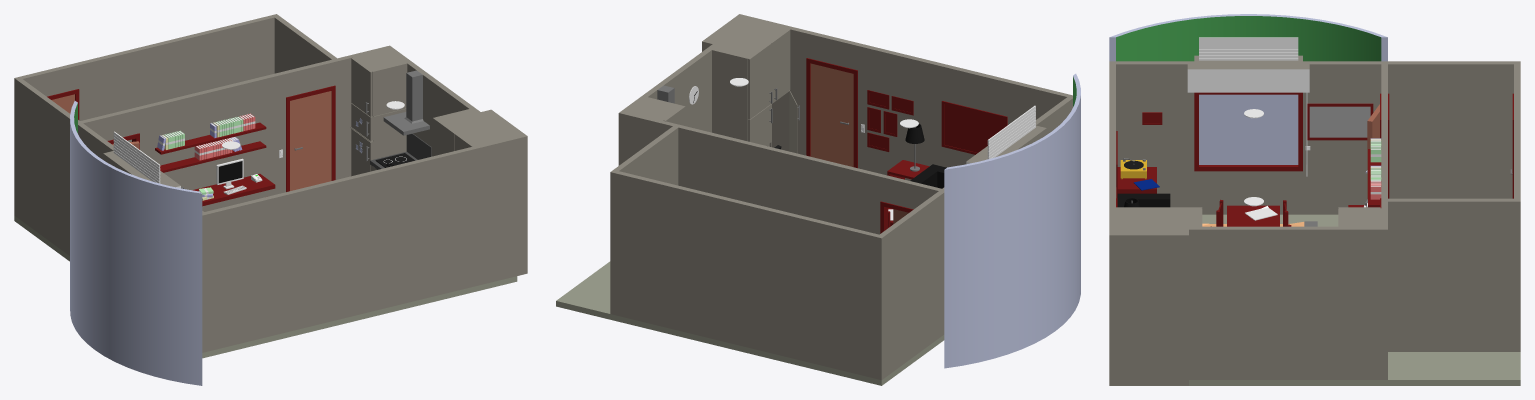
The model's file is test 3 color LOW.dae.
3 views of the same model, side by side, from view 1: azimuth 30°, elevation 25°; view 2: azimuth 150°, elevation 25°; view 3: azimuth 270°, elevation 25° (orthographic). The views are drawn at different scales.
Parts seen in each view (by area): view 1: _3DGeom_1536, _3DGeom_123, _3DGeom_1535, Body_1 (×2), Body_22, Body_5, Body_25, Body_15, Body_4, Body_16, _3DGeom_579; view 2: _3DGeom_1536, _3DGeom_123, Body_1 (×2), _3DGeom_1535, Body_62, Body_13, _3DGeom_1588, Body_55, Body_2, Body_72; view 3: _3DGeom_1536, Body_1 (×3), _3DGeom_124, Body_14, _3DGeom_1532, _3DGeom_2406, Body_99, _3DGeom_123, Body_26, Body_55, Body_24, _3DGeom_2407 (+1 smaller).
Boxes of the visible parts, x1,y1,x2,y2 form: _3DGeom_1536: [14, 14, 527, 352]; _3DGeom_123: [70, 101, 202, 385]; _3DGeom_1535: [51, 91, 331, 190]; Body_1 (×2): [14, 131, 517, 358]; Body_22: [383, 70, 429, 135]; Body_5: [286, 85, 335, 191]; Body_25: [192, 173, 275, 206]; Body_15: [160, 141, 266, 172]; Body_4: [155, 122, 266, 154]; Body_16: [406, 133, 431, 159]; _3DGeom_579: [218, 161, 242, 183]; _3DGeom_1536: [610, 14, 1072, 380]; _3DGeom_123: [944, 73, 1080, 368]; Body_1 (×2): [556, 105, 1035, 385]; _3DGeom_1535: [810, 63, 853, 166]; Body_62: [941, 101, 1007, 154]; Body_13: [806, 58, 857, 168]; _3DGeom_1588: [748, 104, 771, 145]; Body_55: [910, 164, 946, 188]; Body_2: [789, 90, 797, 153]; Body_72: [887, 160, 929, 179]; _3DGeom_1536: [1109, 55, 1520, 385]; Body_1 (×3): [1109, 37, 1520, 385]; _3DGeom_124: [1116, 16, 1381, 61]; Body_14: [1199, 94, 1298, 164]; _3DGeom_1532: [1187, 69, 1309, 92]; _3DGeom_2406: [1309, 106, 1370, 137]; Body_99: [1194, 92, 1302, 171]; _3DGeom_123: [1109, 14, 1387, 61]; Body_26: [1227, 205, 1279, 226]; Body_55: [1117, 193, 1170, 207]; Body_24: [1117, 167, 1156, 193]; _3DGeom_2407: [1307, 103, 1373, 140].
Size of the model in its own units: 7.03 by 6.2 by 3.5.
